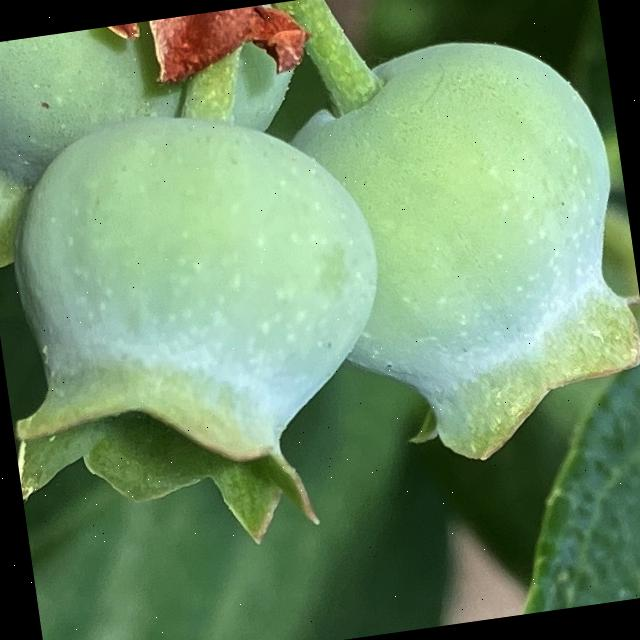Blueberries: (0, 87, 418, 585), (260, 18, 640, 485)
